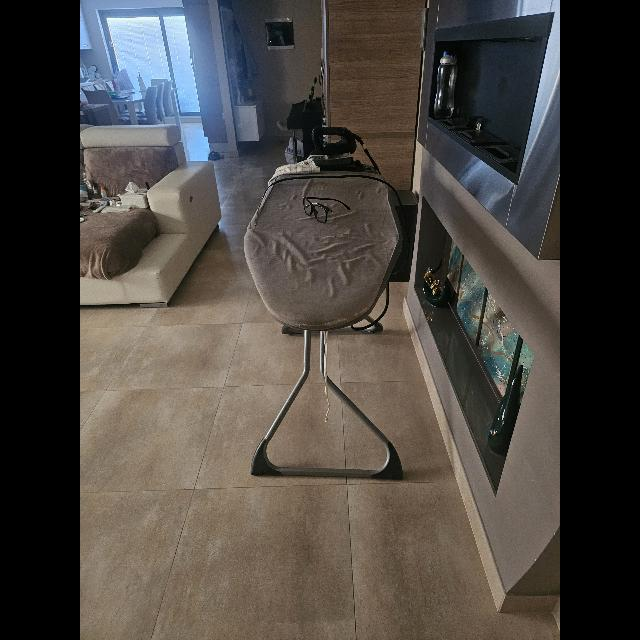glasses: (302, 196, 350, 224)
